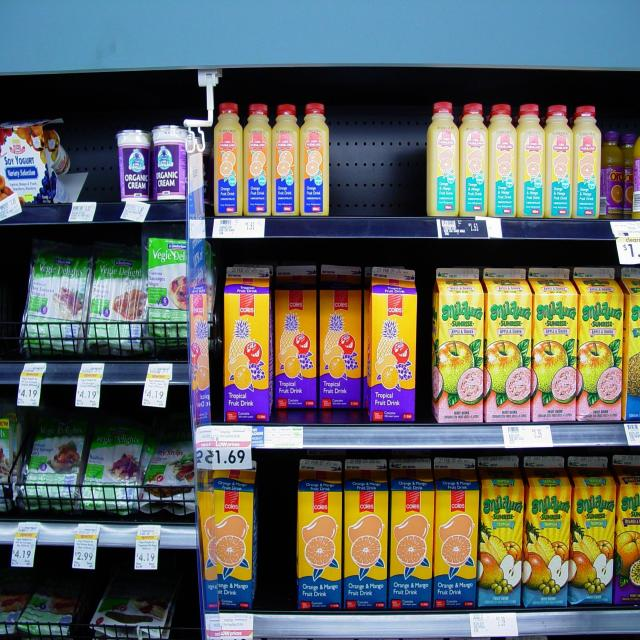empty_space: (336, 112, 423, 220), (61, 134, 115, 200), (264, 497, 292, 601), (1, 273, 17, 341)
